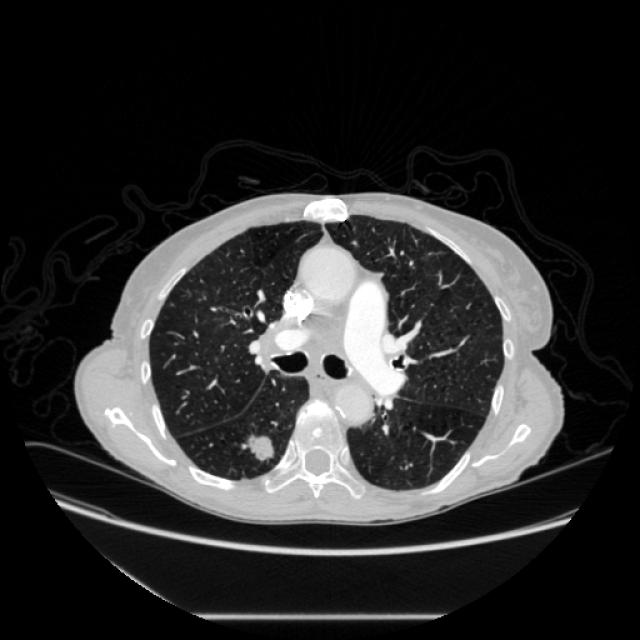nodule: (231, 416, 289, 474)
